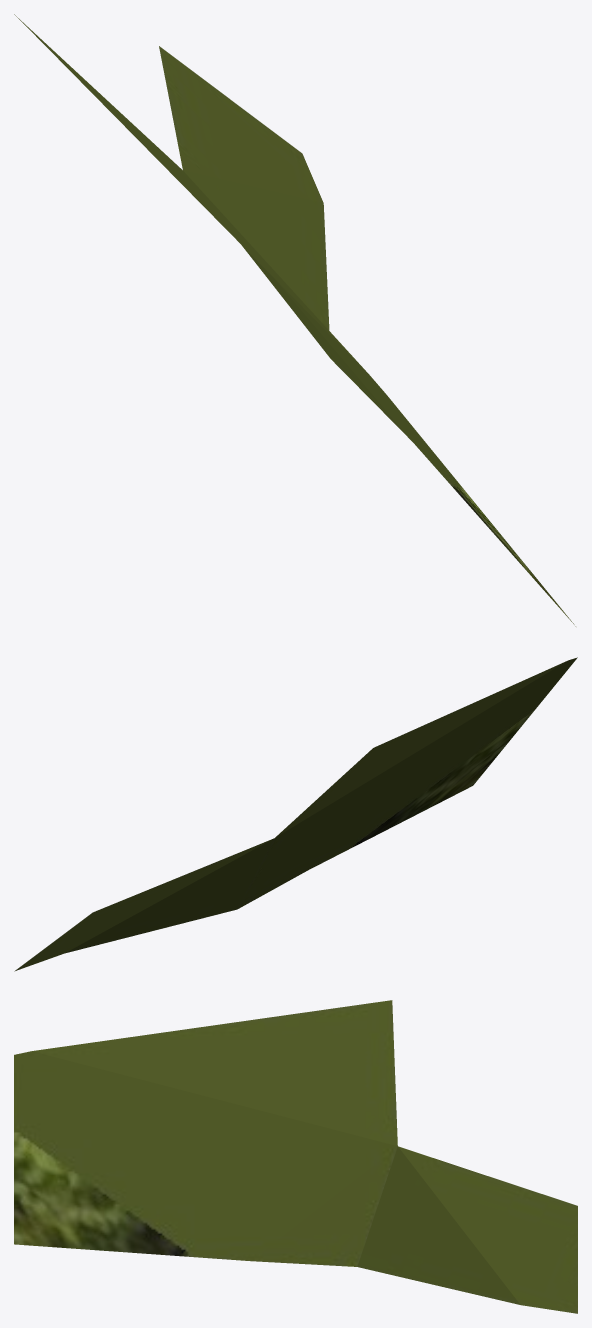
The picture shows the model from 3 angles, top to bottom: view 1: azimuth 30°, elevation 25°; view 2: azimuth 150°, elevation 25°; view 3: azimuth 270°, elevation 25°; orthographic projection. The views are drawn at different scales.
Size of the model in its own units: 1.44 by 1.14 by 2.95.
1 material, 1 textured.
